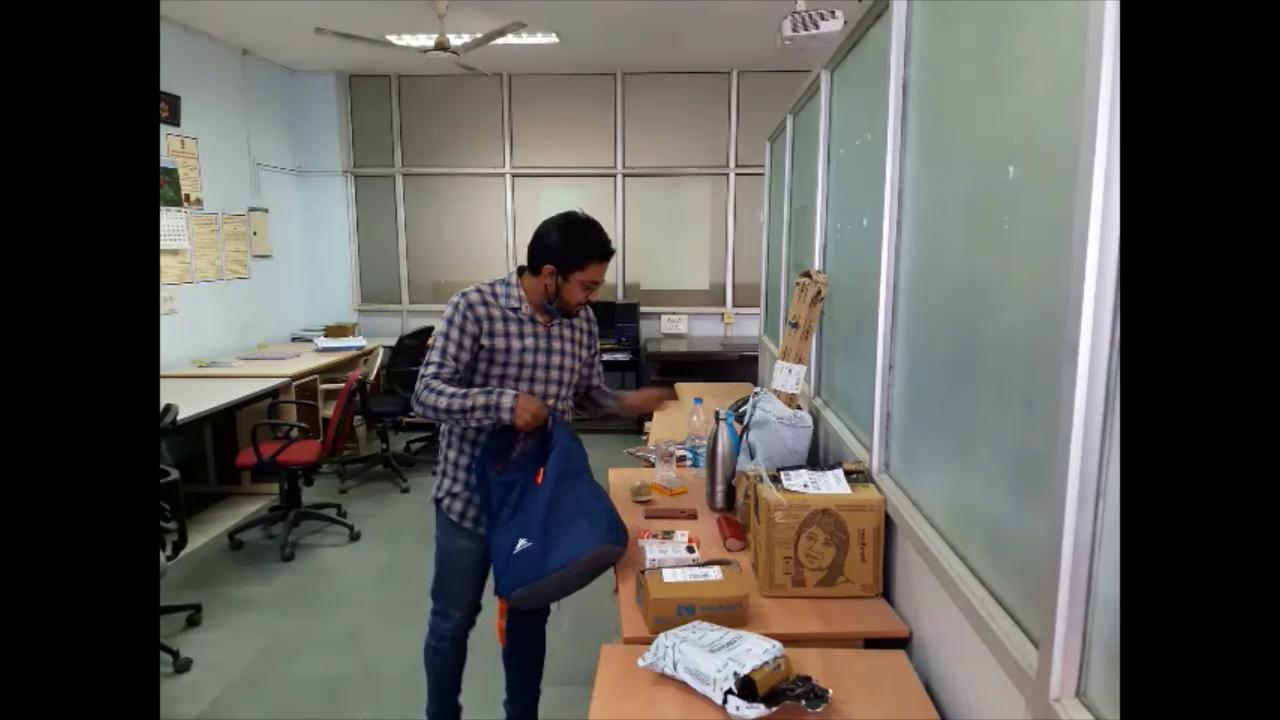shoplifting: (403, 206, 649, 720)
